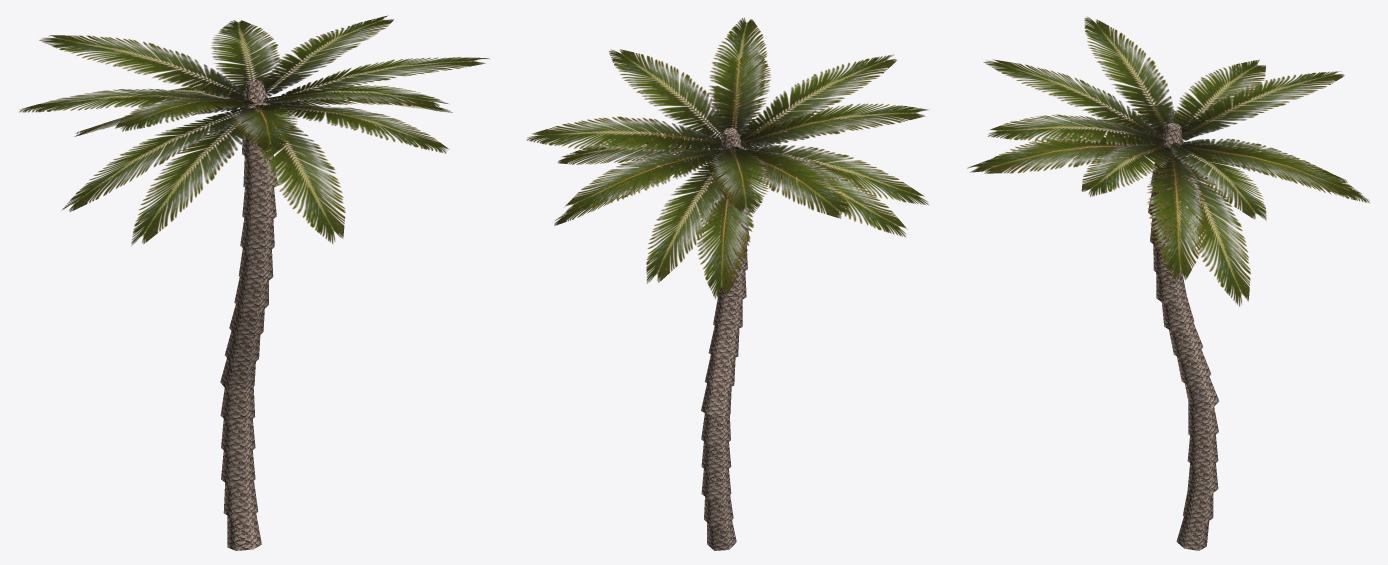
Rendered from palm_tree_001.glb.
3 views of the same model, side by side, from view 1: azimuth 30°, elevation 25°; view 2: azimuth 150°, elevation 25°; view 3: azimuth 270°, elevation 25° (orthographic). The views are drawn at different scales.
Parts seen in each view (by area): view 1: palm_tree_001; view 2: palm_tree_001; view 3: palm_tree_001.
Boxes of the visible parts, bbox=[...] form: palm_tree_001: bbox=[19, 15, 489, 550]; palm_tree_001: bbox=[526, 17, 928, 550]; palm_tree_001: bbox=[967, 16, 1369, 550].
Bounding box in the file's own units: 6.26 × 7.5 × 6.18.
Materials: 2 (2 with a texture image).
